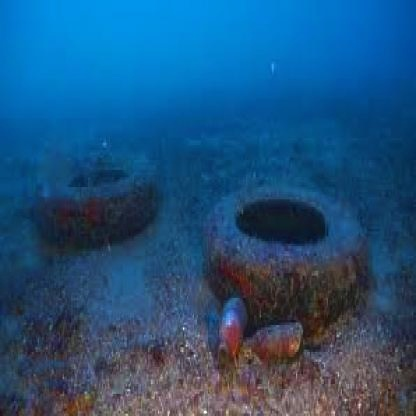tire: (200, 180, 368, 337), (32, 123, 166, 241)
